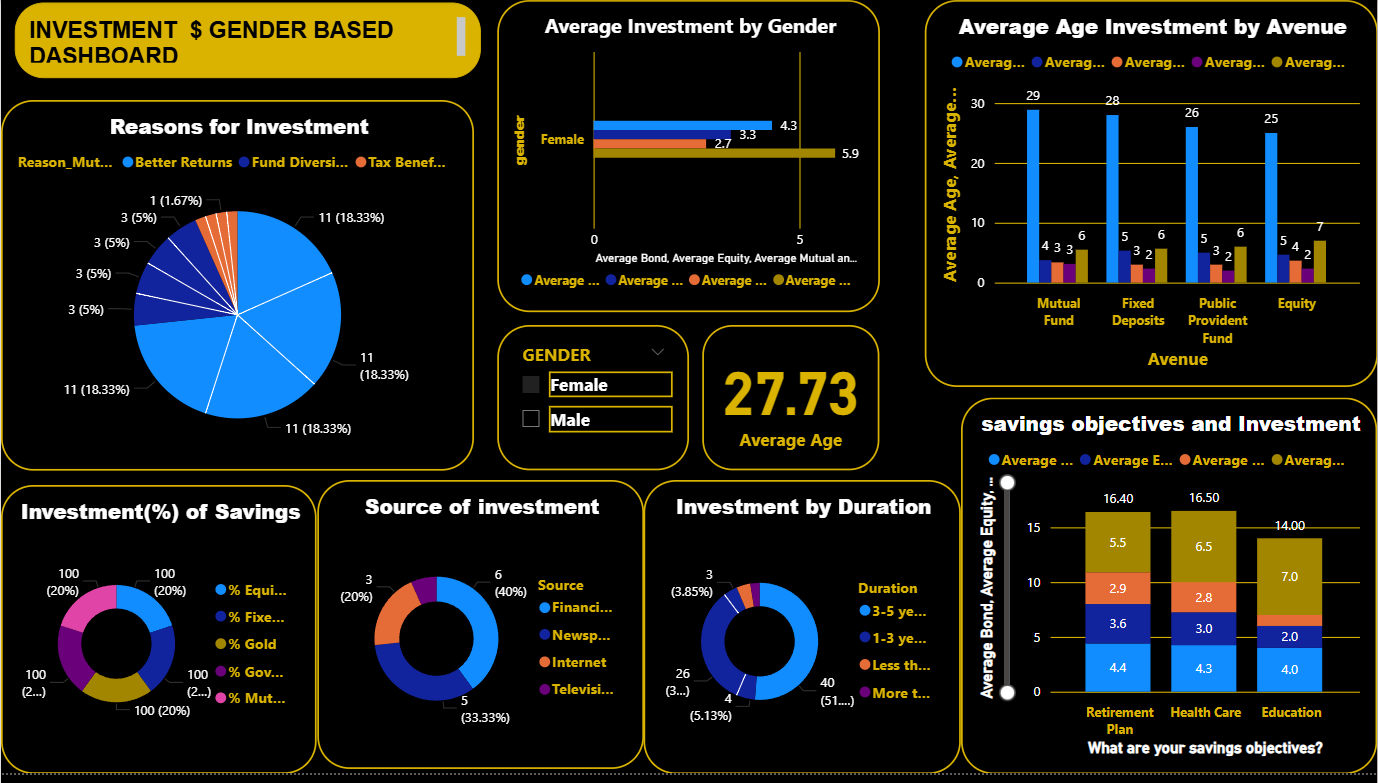

What the dashboard file says about the page in this screenshot:
{"tool":"powerbi","page":{"name":"g","canvas":[1280,720],"ordinal":0},"visuals":[{"type":"card","fields":{"Values":["Data_set 2(cognifyz).Average Age"]},"box":[652.5,302.5,165,135],"z":0},{"type":"donutChart","title":"Investment(%) of Savings","fields":{"Y":["Data_set 2(cognifyz).% Equity Market","Data_set 2(cognifyz).% Fixed Deposits","Data_set 2(cognifyz).% Gold","Data_set 2(cognifyz).% Government Bonds","Data_set 2(cognifyz).% Mutual Fund"]},"box":[0,451.2,293.8,268.8],"z":1000},{"type":"clusteredColumnChart","title":"Average Age Investment by Avenue","fields":{"Category":["Data_set 2(cognifyz).Avenue"],"Y":["Data_set 2(cognifyz).Average Age","Data_set 2(cognifyz).Average Bond","Data_set 2(cognifyz).Average Equity","Data_set 2(cognifyz).Average Mutual","Data_set 2(cognifyz).Average Gold"]},"box":[858.8,0,421.2,360],"z":2000},{"type":"slicer","fields":{"Values":["Data_set 2(cognifyz).gender"]},"box":[461.2,302.5,178.8,135],"z":3000},{"type":"clusteredBarChart","title":"Average Investment by Gender","fields":{"Y":["Data_set 2(cognifyz).Average Bond","Data_set 2(cognifyz).Average Equity","Data_set 2(cognifyz).Average Mutual","Data_set 2(cognifyz).Average Gold"],"Category":["Data_set 2(cognifyz).gender"]},"box":[461.2,0,356.2,290],"z":4000},{"type":"columnChart","title":"savings objectives and Investment","fields":{"Category":["Data_set 2(cognifyz).What are your savings objectives?"],"Y":["Data_set 2(cognifyz).Average Bond","Data_set 2(cognifyz).Average Equity","Data_set 2(cognifyz).Average Mutual","Data_set 2(cognifyz).Average Gold"]},"box":[892.5,370,387.5,350],"z":5000},{"type":"donutChart","title":" Investment by Duration  ","fields":{"Category":["Data_set 2(cognifyz).Duration"],"Y":["Sum(Data_set 2(cognifyz).Debentures)"],"Series":["Data_set 2(cognifyz).Invest_Monitor"]},"box":[597.5,446.2,295,273.8],"z":6000},{"type":"pieChart","title":"Reasons for Investment","fields":{"Category":["Data_set 2(cognifyz).Reason_Equity","Data_set 2(cognifyz).Reason_FD","Data_set 2(cognifyz).Reason_Bonds","Data_set 2(cognifyz).Reason_Mutual"],"Y":["Data_set 2(cognifyz).Reason_Bond","Data_set 2(cognifyz).Reason_Equitys","Data_set 2(cognifyz).Reason_Mutuals","Data_set 2(cognifyz).Reason_FDs"]},"box":[0,92.5,440,345],"z":7000},{"type":"donutChart","title":"Source of investment","fields":{"Category":["Data_set 2(cognifyz).Source"],"Y":["Data_set 2(cognifyz).Sources"]},"box":[293.8,446.2,303.8,268.8],"z":8000},{"type":"textbox","box":[12.5,2.5,433.8,70],"z":9000}]}

Visuals, with their boxes in screenshot pixels (x1, y1, x2, y2), scaled from the page's 1280x720 canvas onto the 1378x783 screenshot:
card - Data_set 2(cognifyz).Average Age: (x1=702, y1=329, x2=880, y2=476)
"Investment(%) of Savings" donutChart: (x1=0, y1=491, x2=316, y2=782)
"Average Age Investment by Avenue" clusteredColumnChart: (x1=925, y1=0, x2=1377, y2=391)
slicer - Data_set 2(cognifyz).gender: (x1=497, y1=329, x2=689, y2=476)
"Average Investment by Gender" clusteredBarChart: (x1=497, y1=0, x2=880, y2=315)
"savings objectives and Investment" columnChart: (x1=961, y1=402, x2=1377, y2=782)
" Investment by Duration  " donutChart: (x1=643, y1=485, x2=961, y2=782)
"Reasons for Investment" pieChart: (x1=0, y1=101, x2=474, y2=476)
"Source of investment" donutChart: (x1=316, y1=485, x2=643, y2=778)
textbox: (x1=13, y1=3, x2=480, y2=79)
